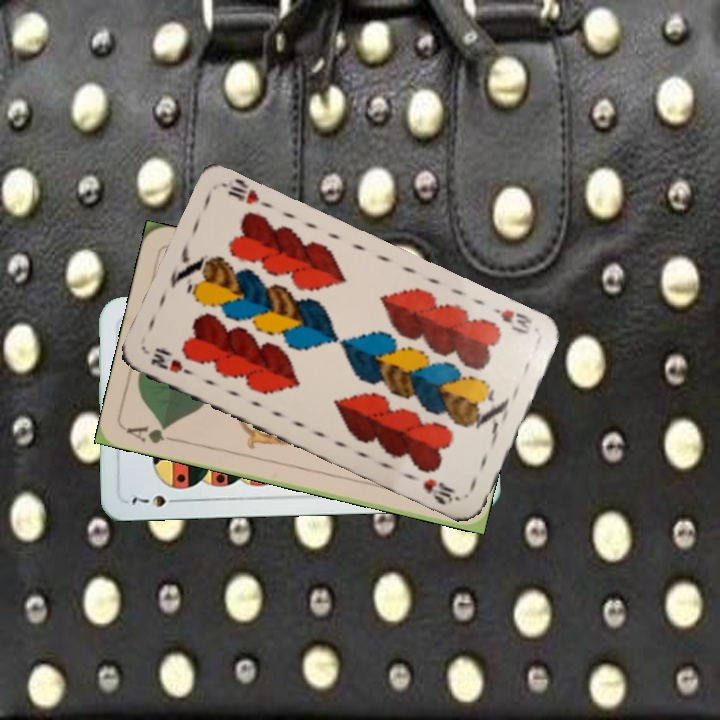GA: (122, 421, 181, 446)
H10: (146, 345, 196, 378), (488, 303, 535, 337)
S7: (127, 491, 184, 510)
